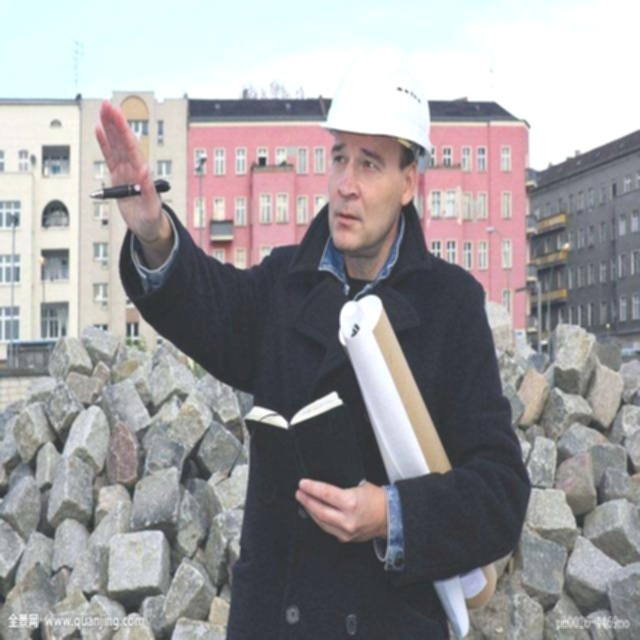Con_Casco: (317, 53, 435, 248)
Sin_Chaleco: (232, 245, 478, 640)
